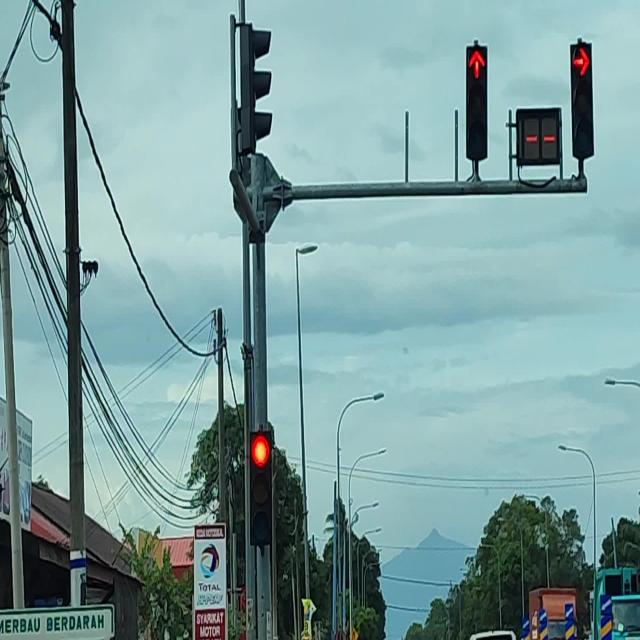traffic light: (230, 153, 293, 238), (235, 21, 273, 156), (570, 42, 594, 160), (249, 431, 273, 547), (465, 45, 488, 161)
